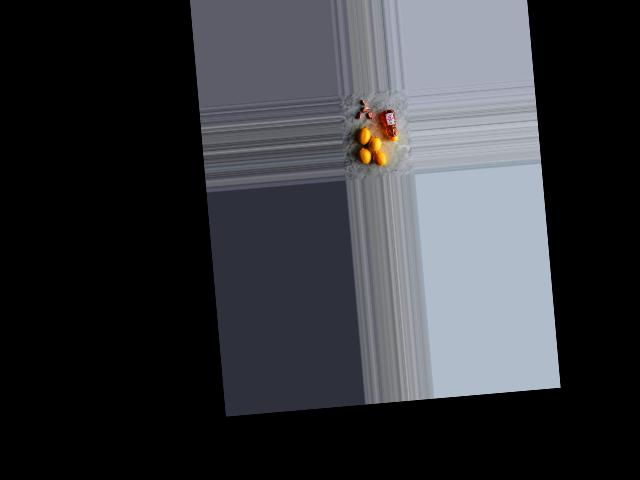lemon: (354, 125, 374, 147)
